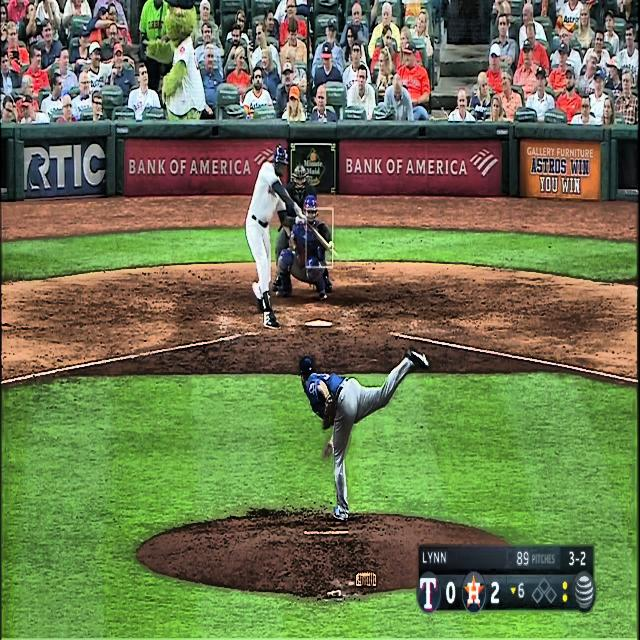baseball: (328, 240, 334, 250)
